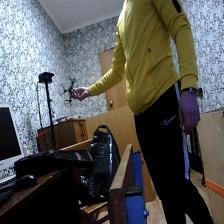drone: (56, 74, 86, 110)
